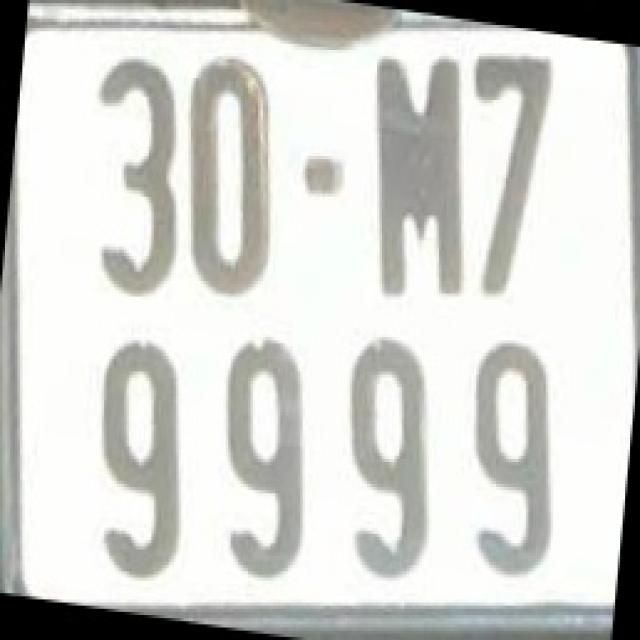0: (186, 50, 275, 297)
3: (94, 53, 181, 297)
7: (471, 50, 556, 297)
9: (342, 331, 434, 581), (94, 334, 186, 578), (466, 337, 558, 578), (220, 331, 308, 581)
M: (371, 45, 467, 298)
